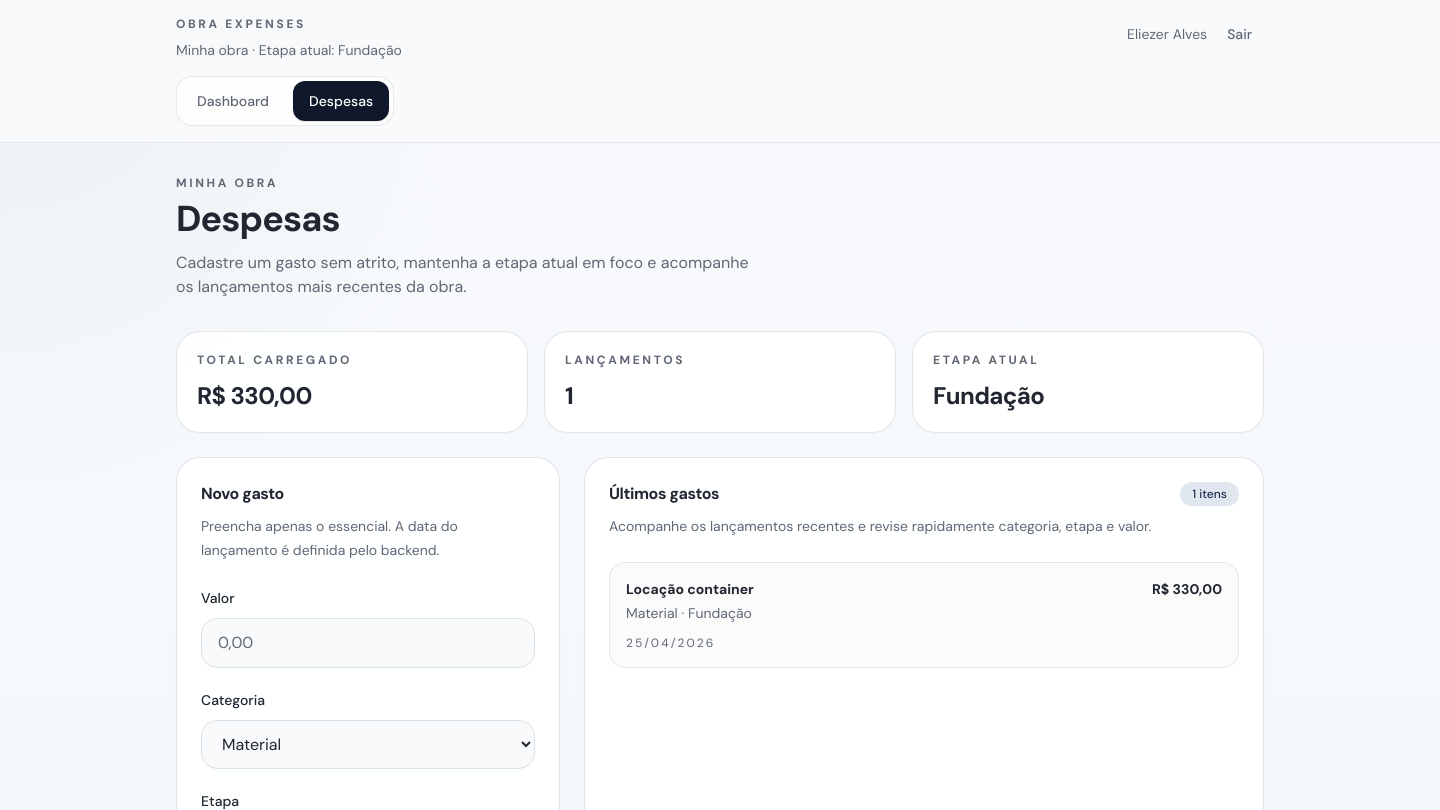
Test case: ExpensesPage › refreshes the list after submitting a new expense
Type "120" into the number field labelled "Valor" at (368, 643), box x1=201 y1=618 x2=535 y2=668
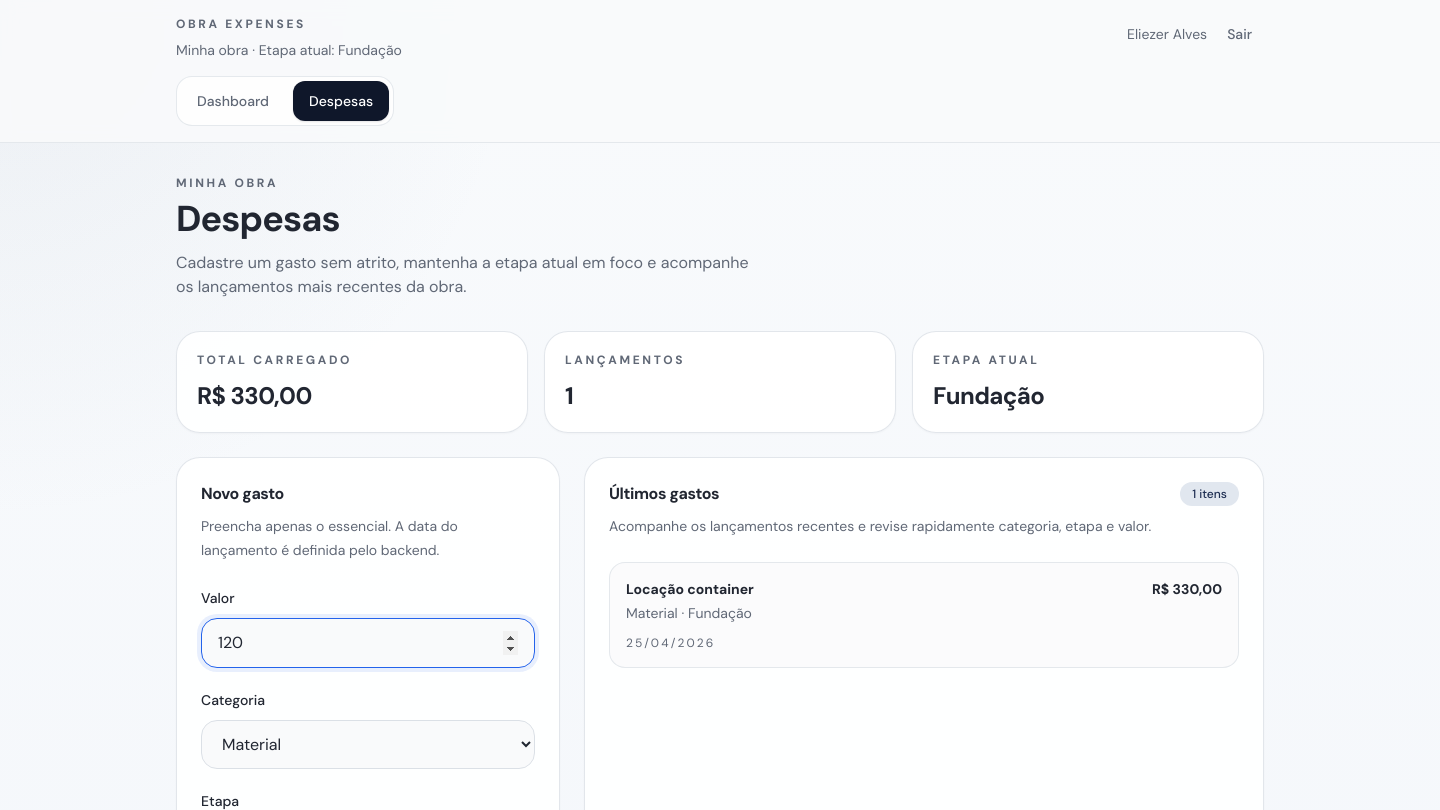
Select "Mão de Obra" in the dropdown labelled "Categoria" at (368, 744), box x1=201 y1=720 x2=535 y2=769
(page scrolled)
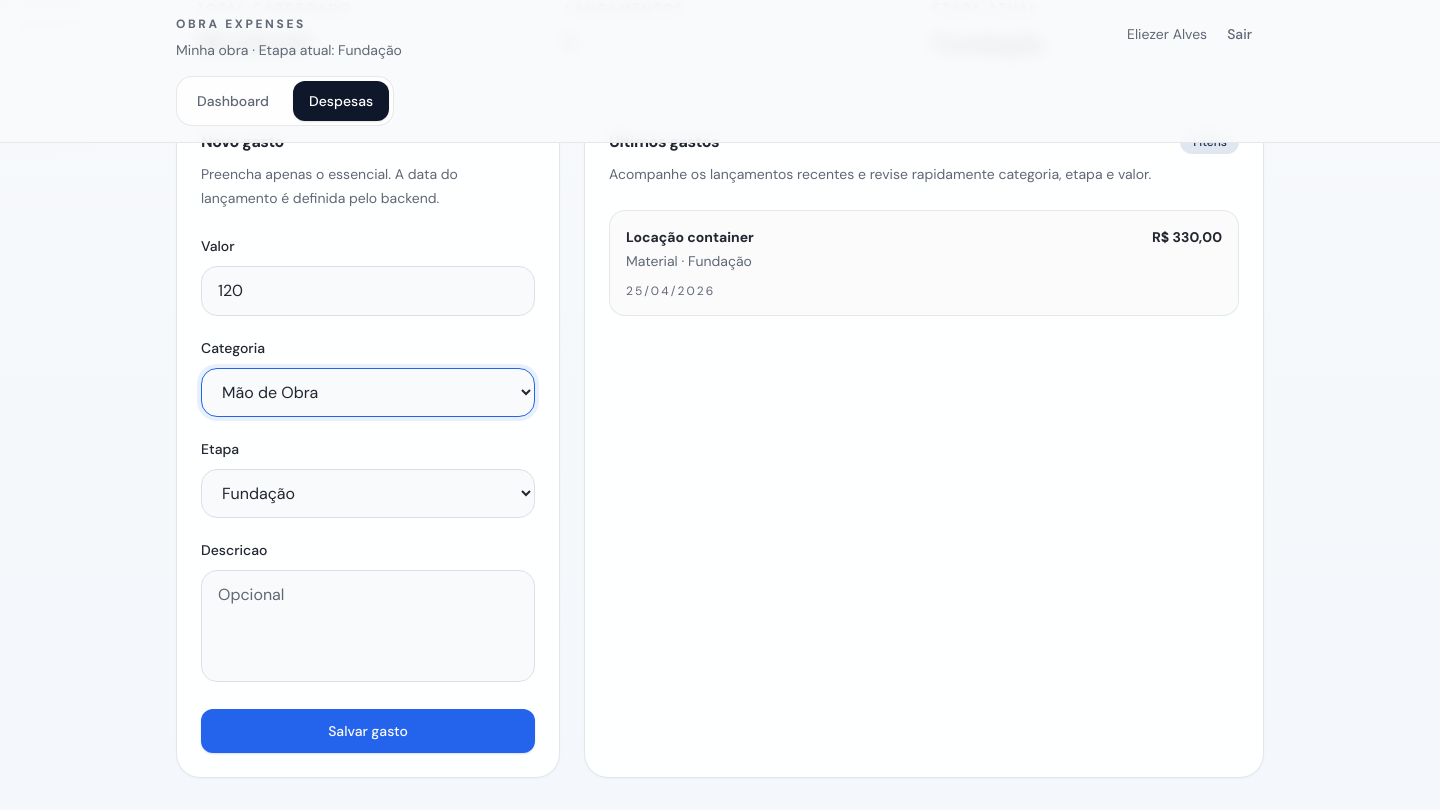
Select "Estrutura" in the dropdown labelled "Etapa" at (368, 494), box x1=201 y1=469 x2=535 y2=518
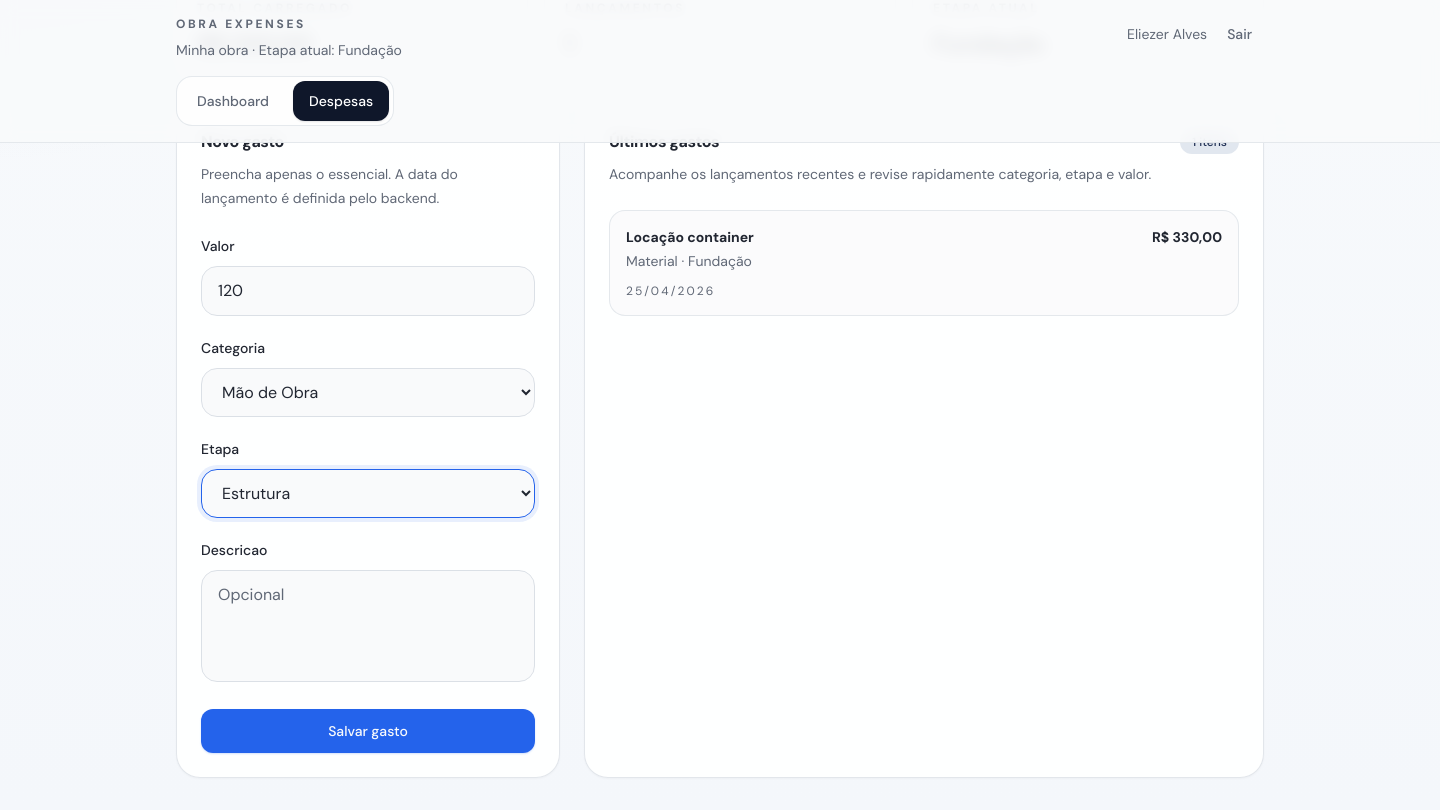
Type "Concreto usinado" into the text box labelled "Descricao" at (368, 626), box x1=201 y1=570 x2=535 y2=682
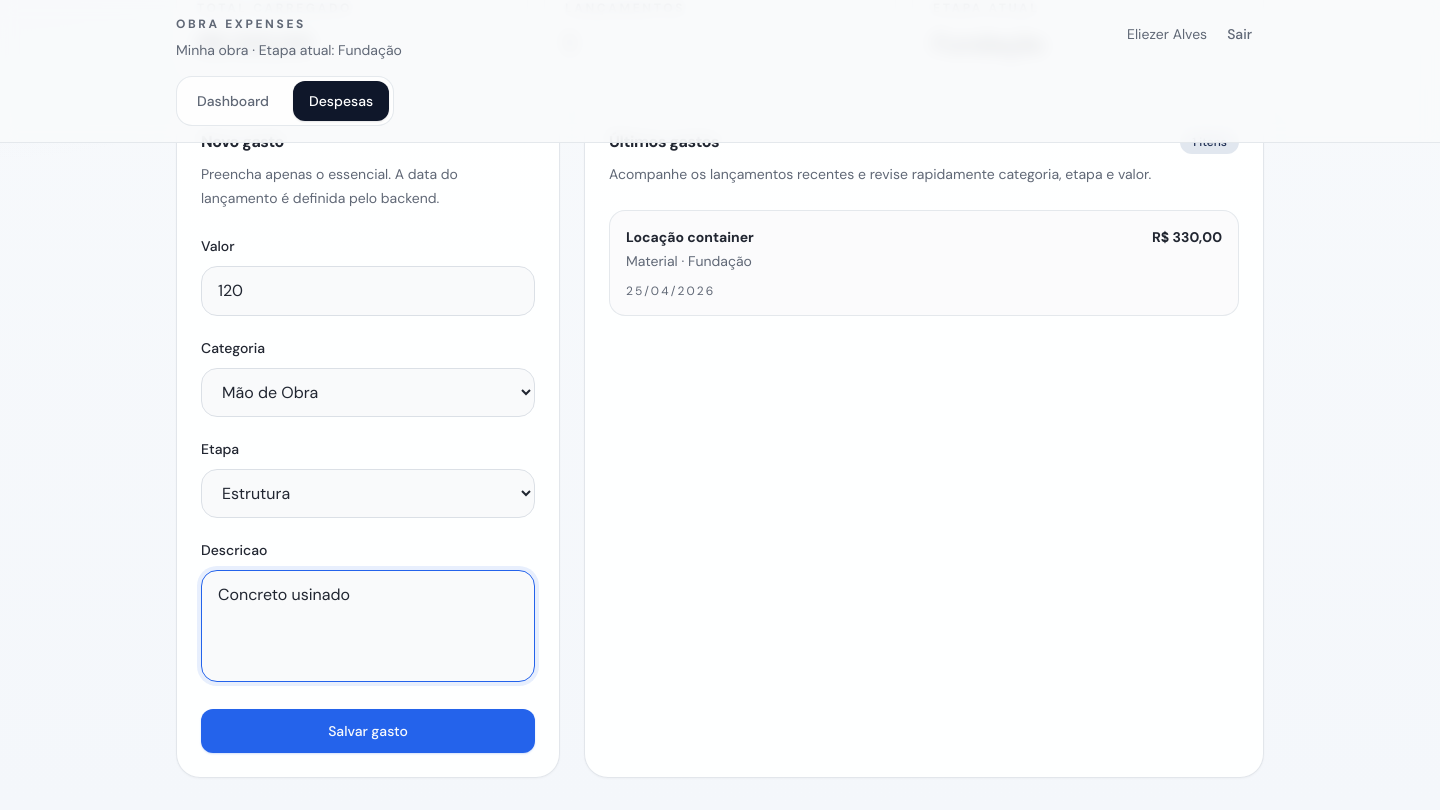
Click the button "Salvar gasto" at (368, 731), box x1=201 y1=709 x2=535 y2=753
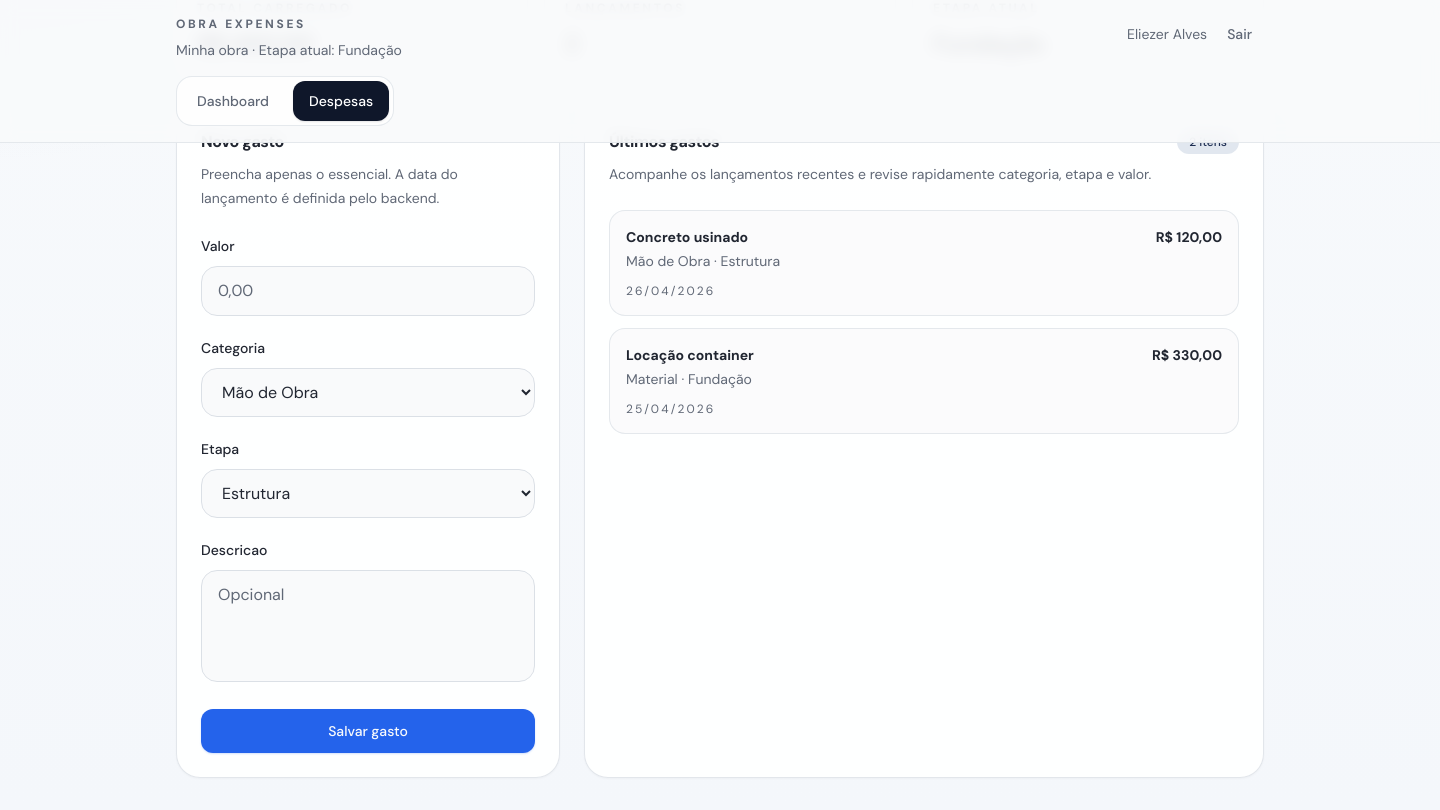
Expected: the text "Concreto usinado" is shown, x1=626 y1=228 x2=748 y2=246
Expected: the text "Mão de Obra · Estrutura" is shown, x1=626 y1=251 x2=780 y2=271
Expected: the number field labelled "Valor" is not empty, x1=201 y1=266 x2=535 y2=316
